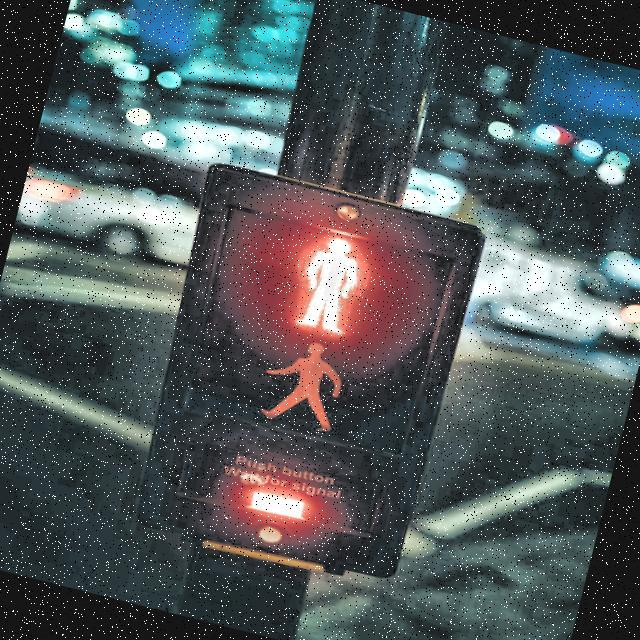red_light: (285, 227, 370, 340)
